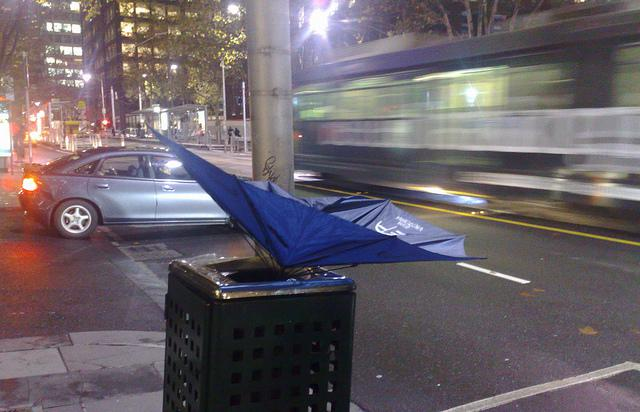Train: (283, 7, 640, 228), (22, 101, 85, 146)
